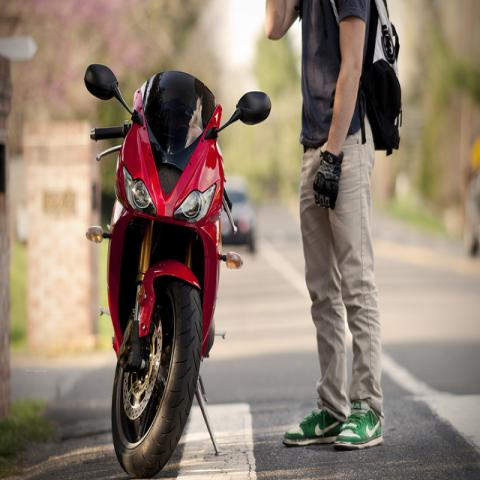car: (222, 178, 254, 251)
motorcycle: (82, 64, 271, 465)
